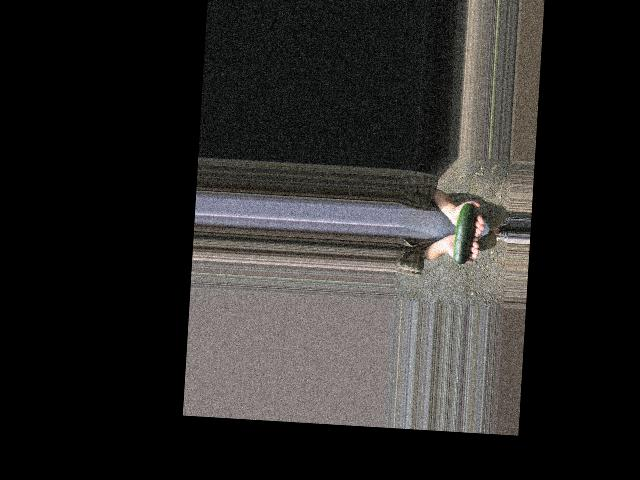cucumber: (452, 203, 476, 272)
